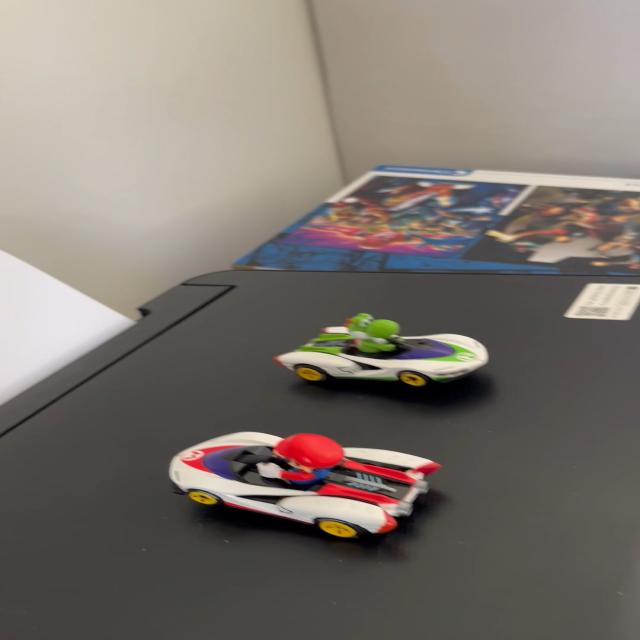mario: (150, 421, 465, 543)
yoshi: (267, 308, 500, 397)
